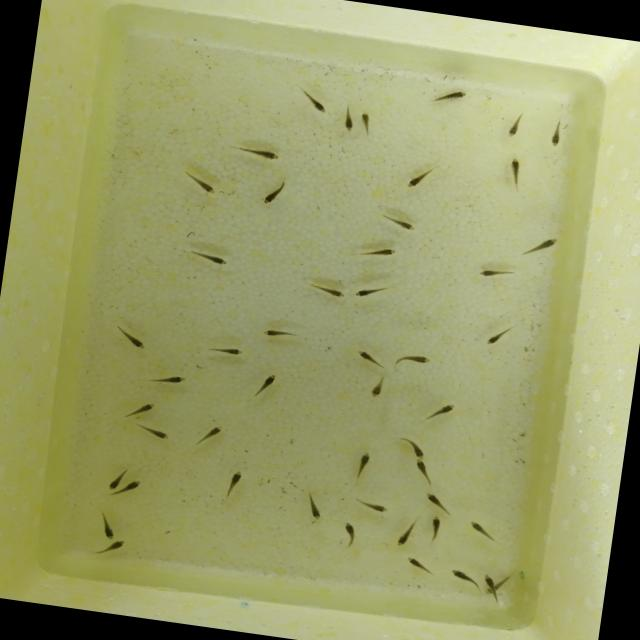fingerling: (180, 170, 227, 198), (382, 522, 423, 554), (427, 394, 462, 424), (386, 211, 427, 236), (394, 350, 444, 370), (238, 142, 282, 164), (432, 85, 474, 108), (498, 115, 531, 144), (526, 233, 561, 259), (247, 325, 297, 343), (502, 154, 528, 188), (364, 240, 400, 264), (400, 434, 433, 460), (127, 396, 161, 421), (350, 348, 390, 369), (204, 342, 253, 359), (420, 488, 452, 514), (463, 516, 494, 542), (140, 422, 176, 444), (355, 498, 399, 516), (260, 183, 289, 210), (404, 167, 431, 195), (406, 458, 441, 479), (104, 464, 126, 497), (118, 332, 154, 352), (542, 123, 569, 149), (200, 418, 227, 444), (159, 371, 193, 391), (303, 496, 328, 522), (338, 522, 364, 547), (484, 324, 508, 351), (355, 108, 376, 138), (223, 468, 249, 492), (353, 449, 374, 478), (260, 368, 280, 398), (97, 517, 122, 541), (474, 266, 514, 280), (426, 512, 446, 540), (300, 95, 329, 114), (313, 284, 347, 300), (194, 252, 232, 266), (352, 284, 384, 300), (341, 106, 358, 136), (368, 378, 388, 402), (448, 567, 476, 584), (480, 568, 500, 590), (401, 556, 430, 571), (104, 538, 130, 554), (122, 478, 146, 493)
